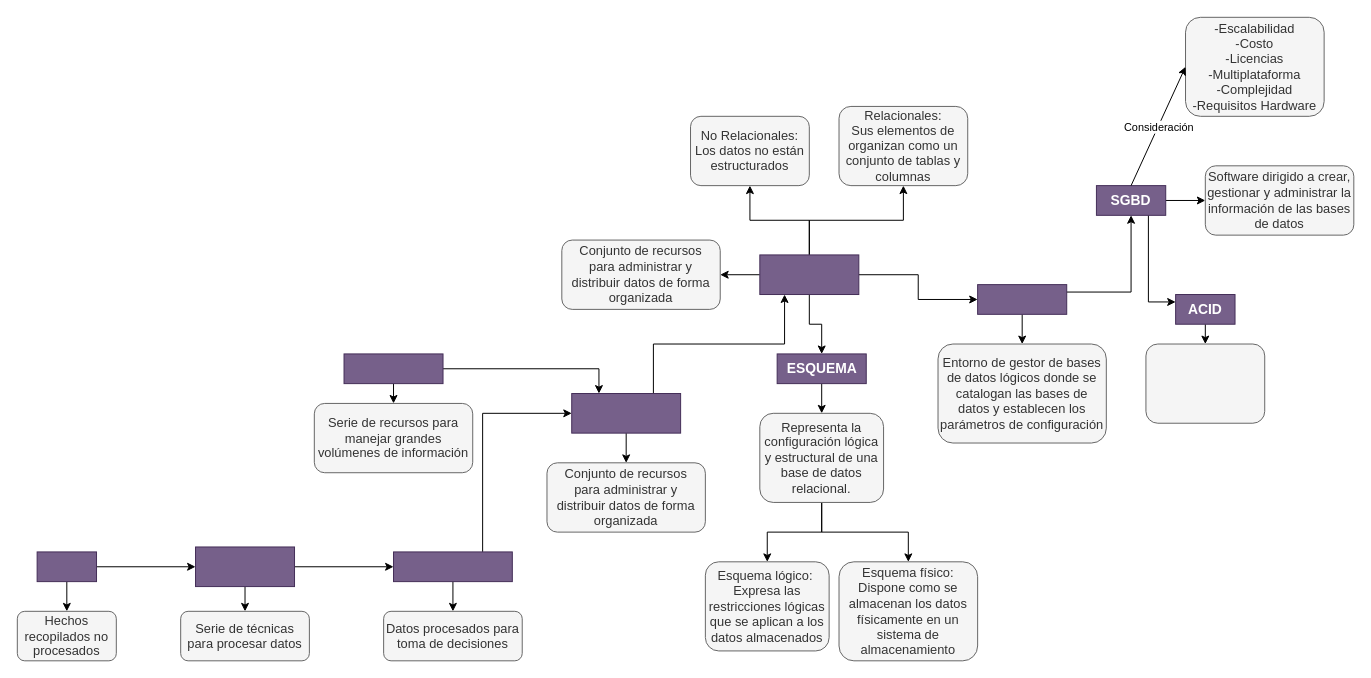
Image size: 1371x678. Some labels were removed from this diagram. Each missing label, with the centre of its shape:
-Atomicidad -Consistencia -Aislamiento en las transacciones -Durabilidad: the point at 1205,383
ANALISIS DE DATOS: the point at 245,566
BASE DE DATOS: the point at 809,274
DATOS: the point at 66,566
INFORMACION: the point at 452,566
INSTANCIA: the point at 1022,299
SISTEMA: the point at 393,368
SISTEMA DE INFORMACION: the point at 626,413
